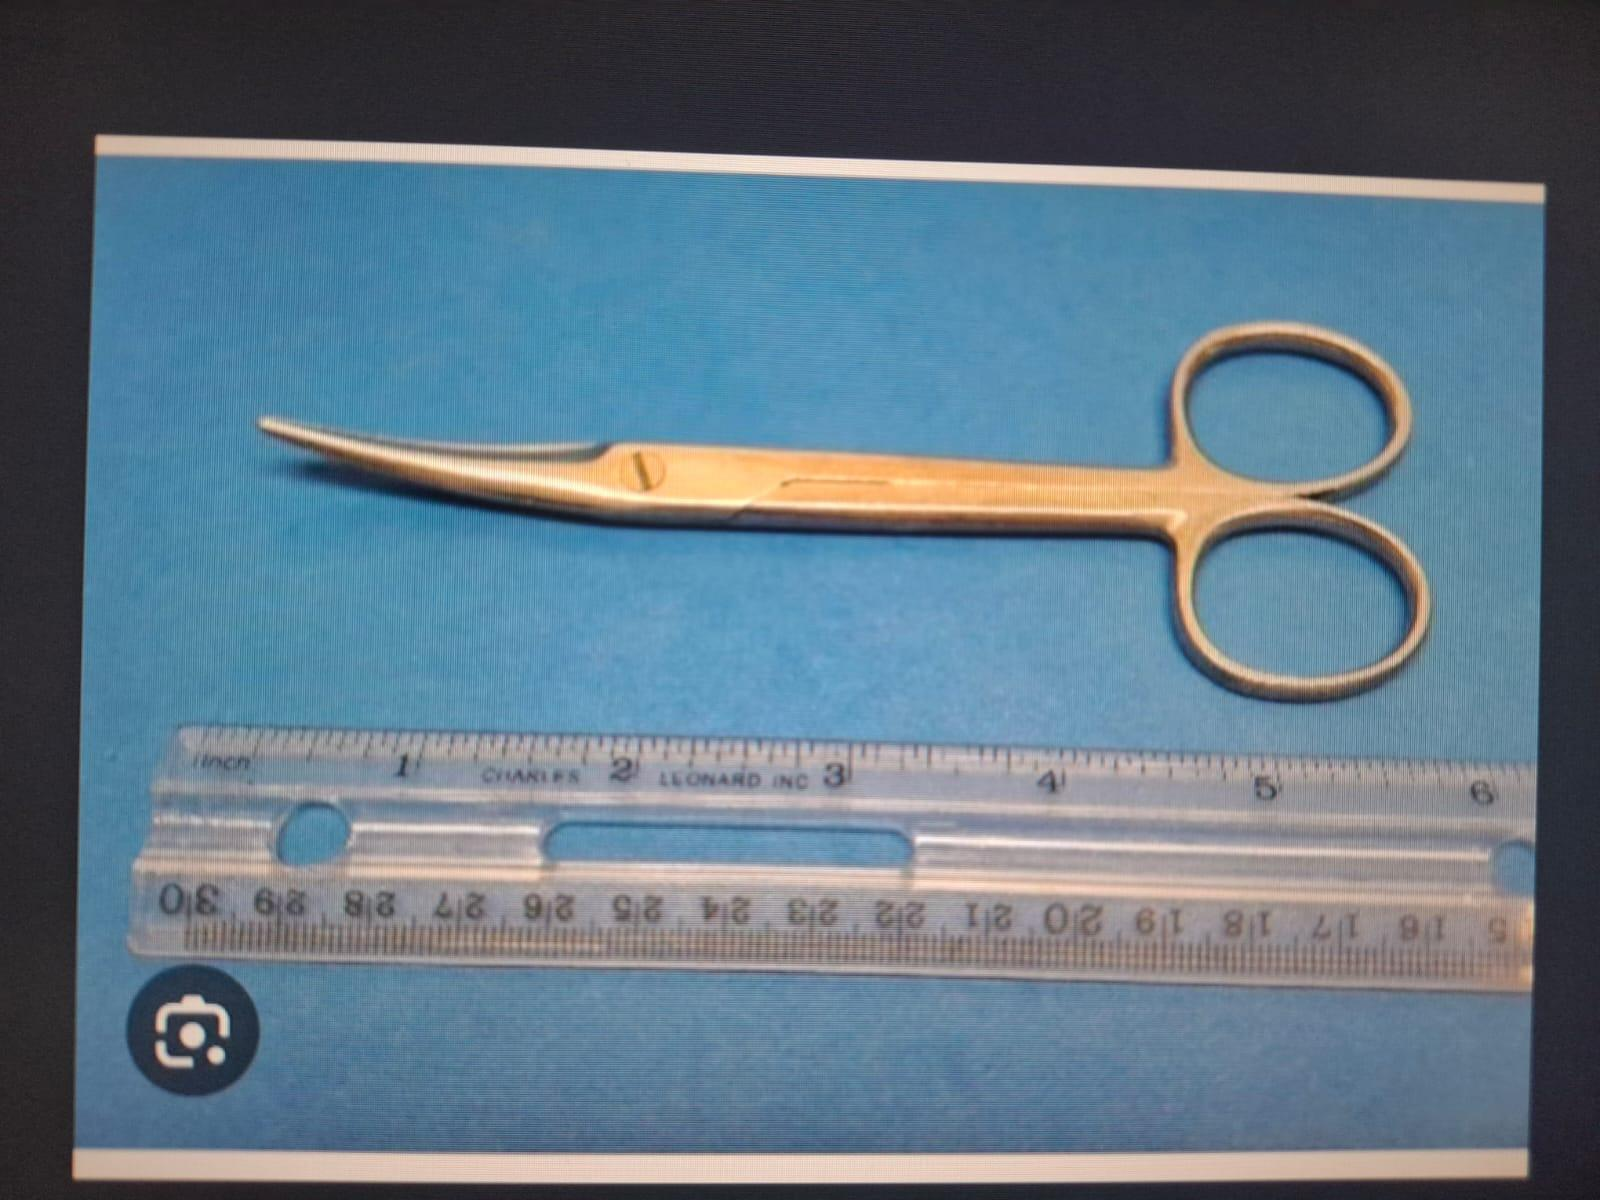Curved Mayo: (236, 296, 1434, 705)
